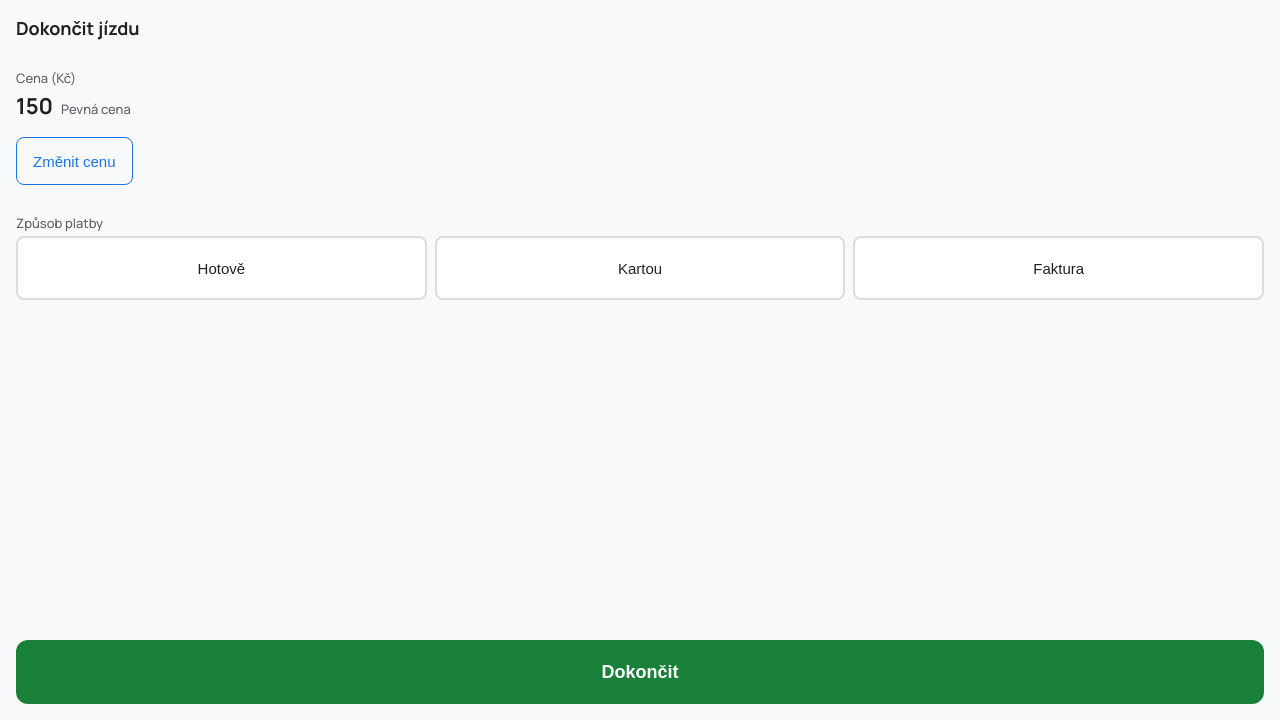
Scenario: CompletePage › Fixed changed price requires a >=5-char reason before completing
Click the button "Hotově" at {"x": 221, "y": 268}, box [16,236,427,300]
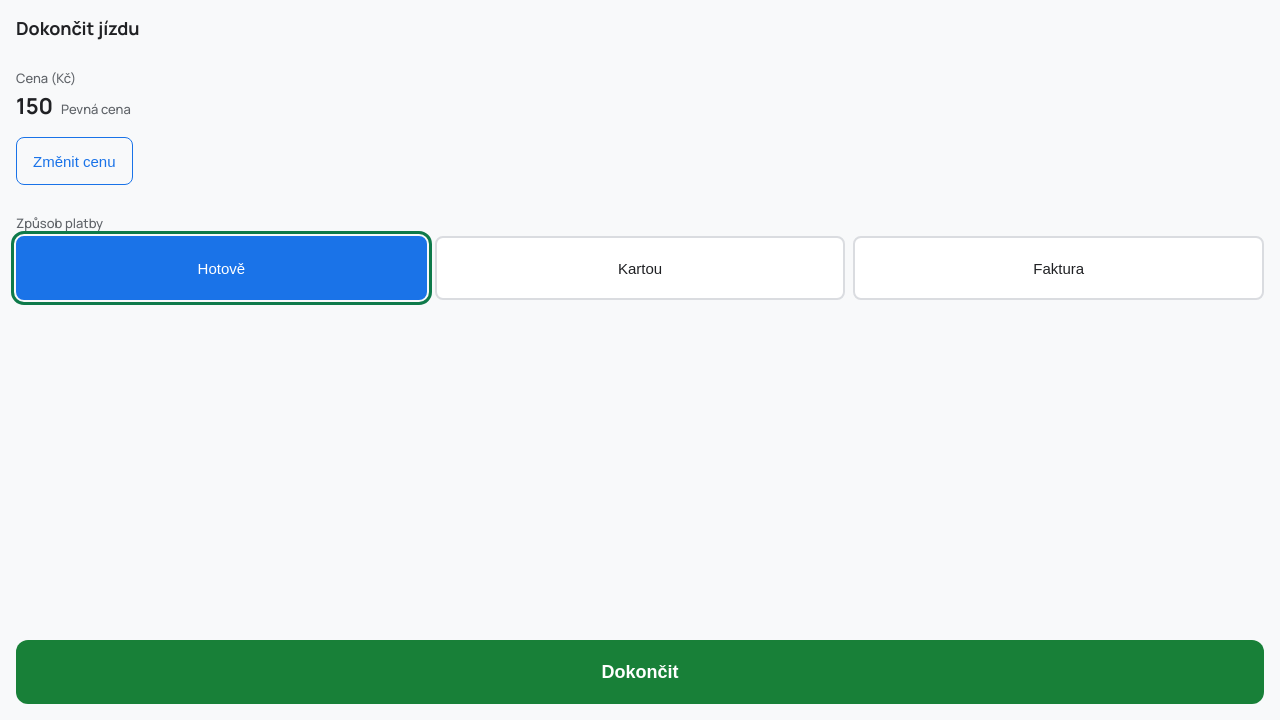
Click the button "Změnit cenu" at {"x": 74, "y": 161}, box [16,137,132,185]
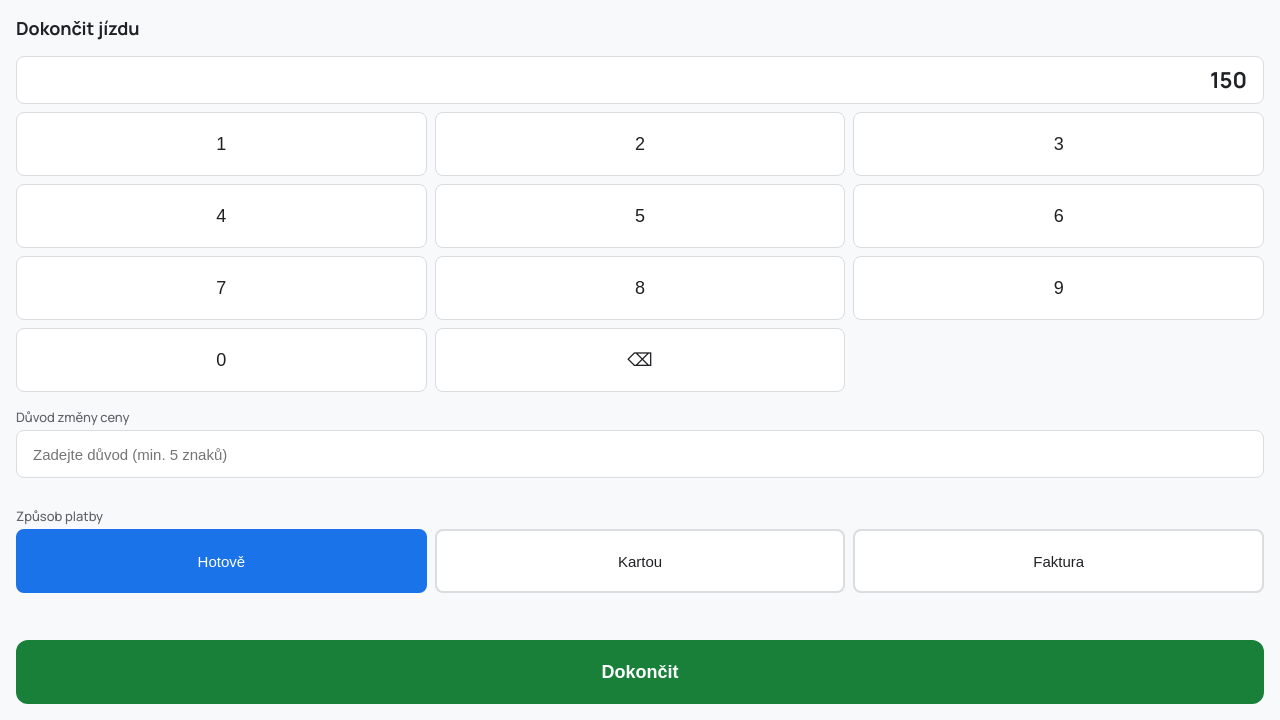
Click the button "9" at {"x": 1059, "y": 288}, box [853,256,1264,320]
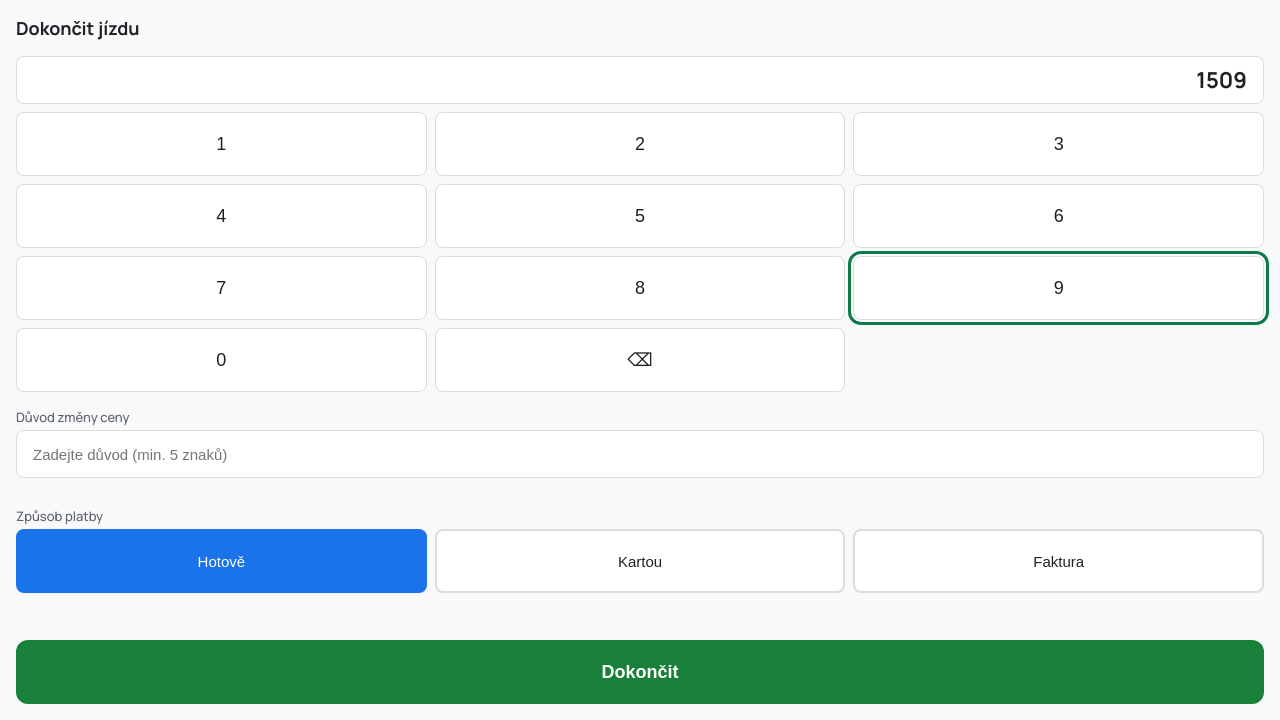
Click the button "Dokončit" at {"x": 640, "y": 672}, box [16,640,1264,704]
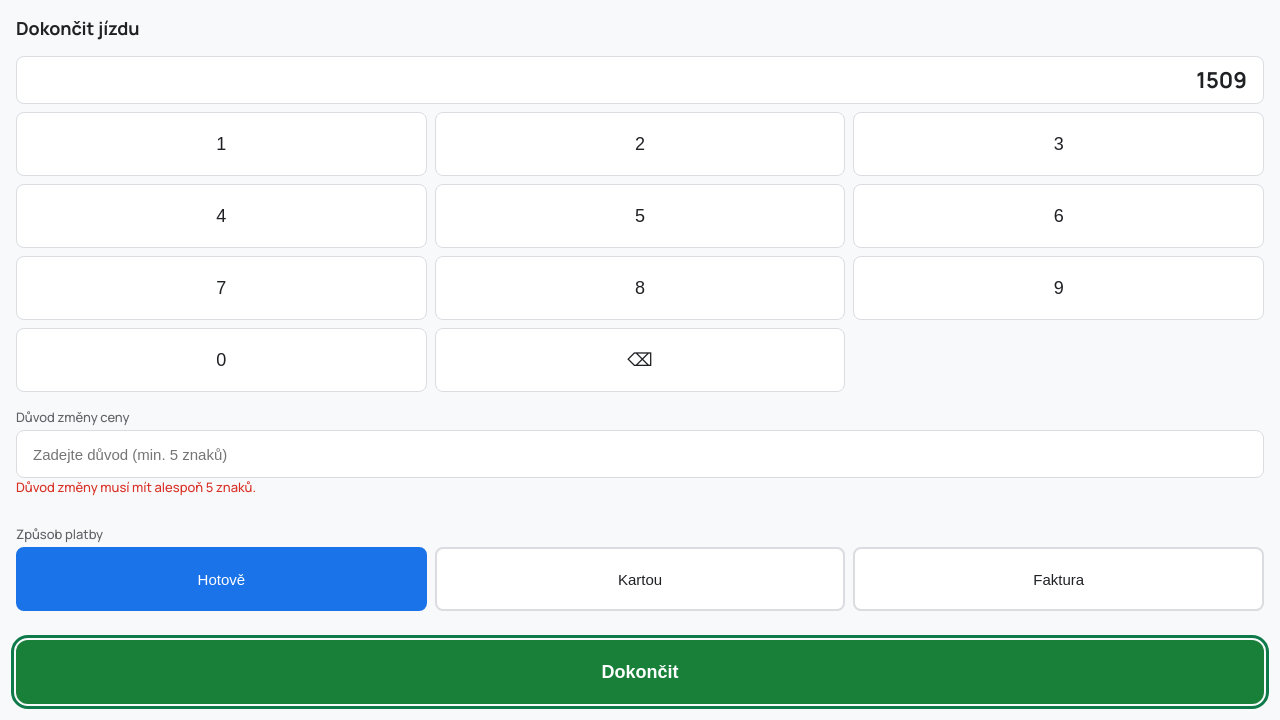
Check: the text "Důvod změny musí mít alespoň 5 znaků." is shown, box [16,478,256,496]
